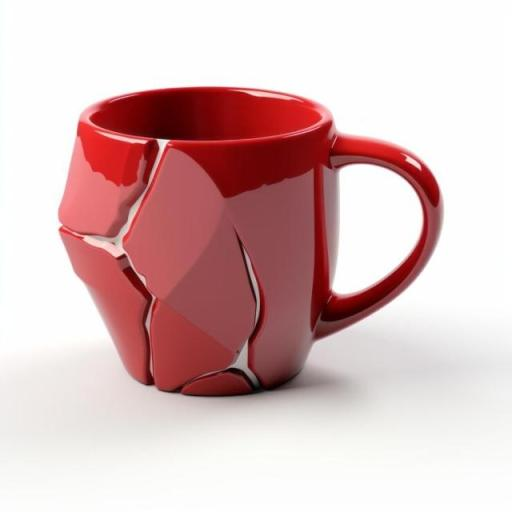glass: (50, 79, 448, 399)
